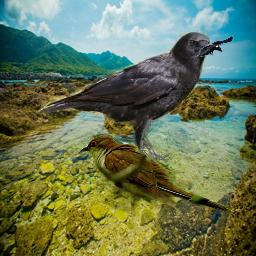Crow: (33, 31, 213, 174), (195, 35, 234, 57)
Cuckoo: (78, 133, 235, 215)
